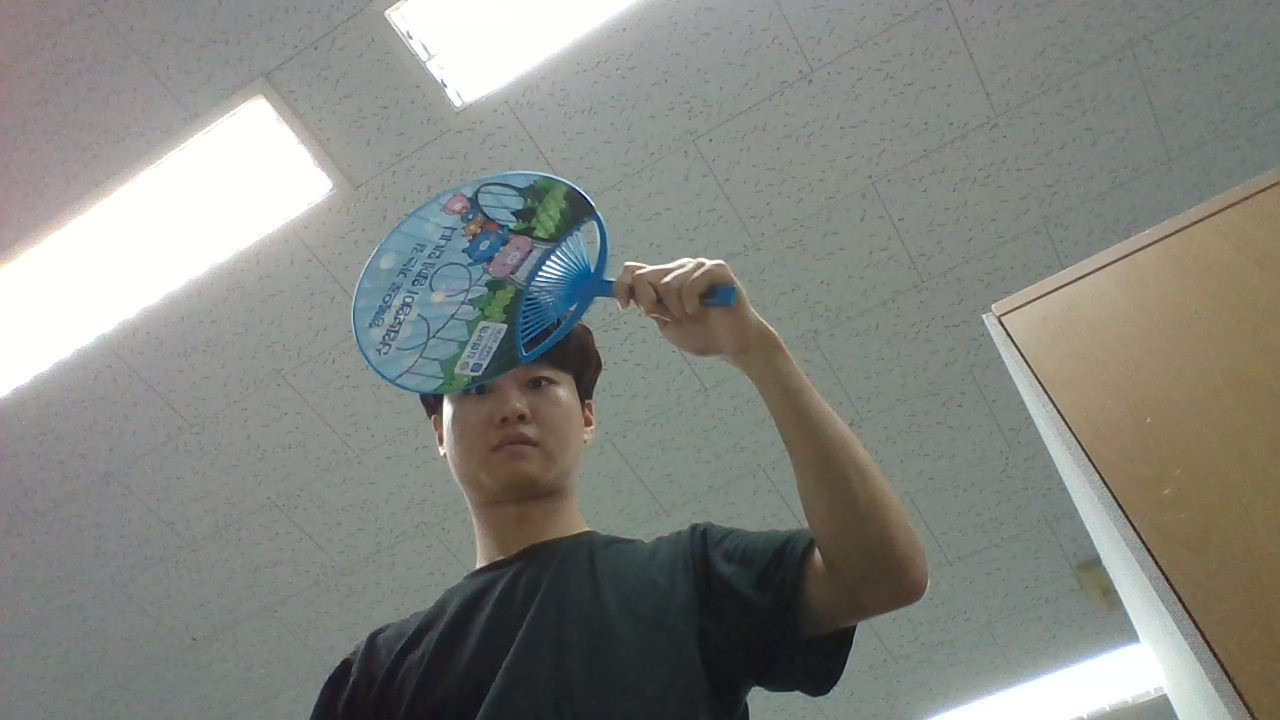Non-Helmet: (382, 290, 623, 514)
